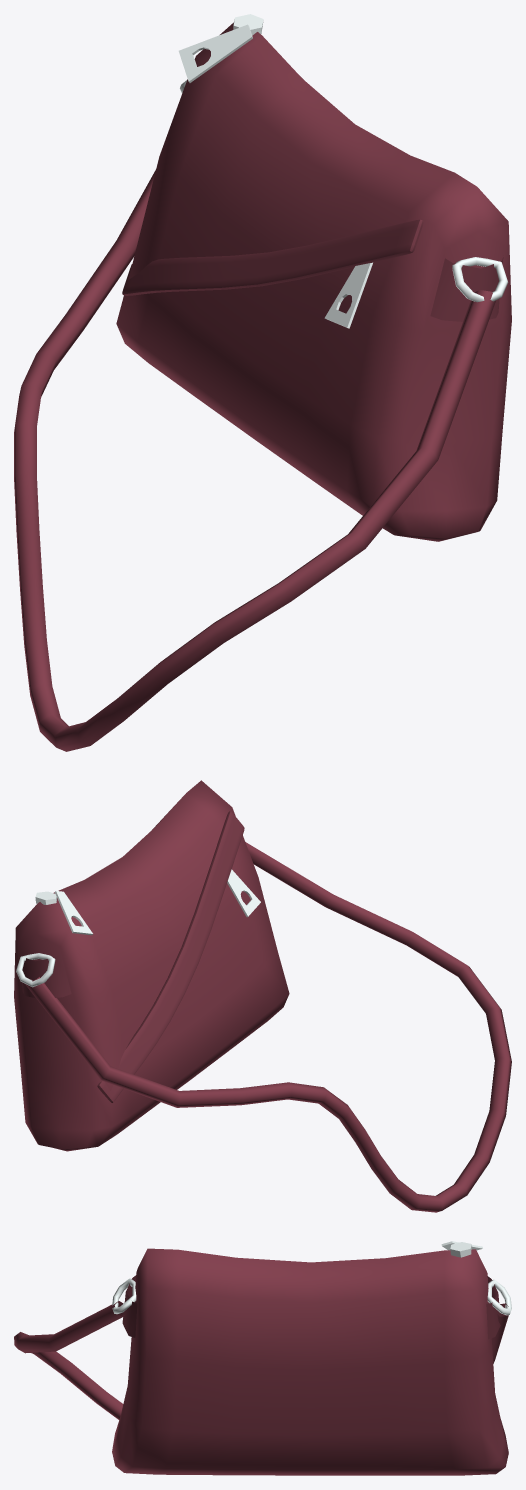
File: shoulderbag 2.glb
3 views of the same model, one above another, from view 1: azimuth 30°, elevation 25°; view 2: azimuth 150°, elevation 25°; view 3: azimuth 270°, elevation 25° (orthographic). The views are drawn at different scales.
Parts seen in each view (by area): view 1: Plane.002; view 2: Plane.002; view 3: Plane.002.
Part boxes in pixels (<box>): Plane.002: <box>14,14,511,751</box>; Plane.002: <box>14,780,511,1212</box>; Plane.002: <box>14,1241,511,1475</box>.
Bounding box in the file's own units: 0.7539 × 0.8104 × 1.06.
